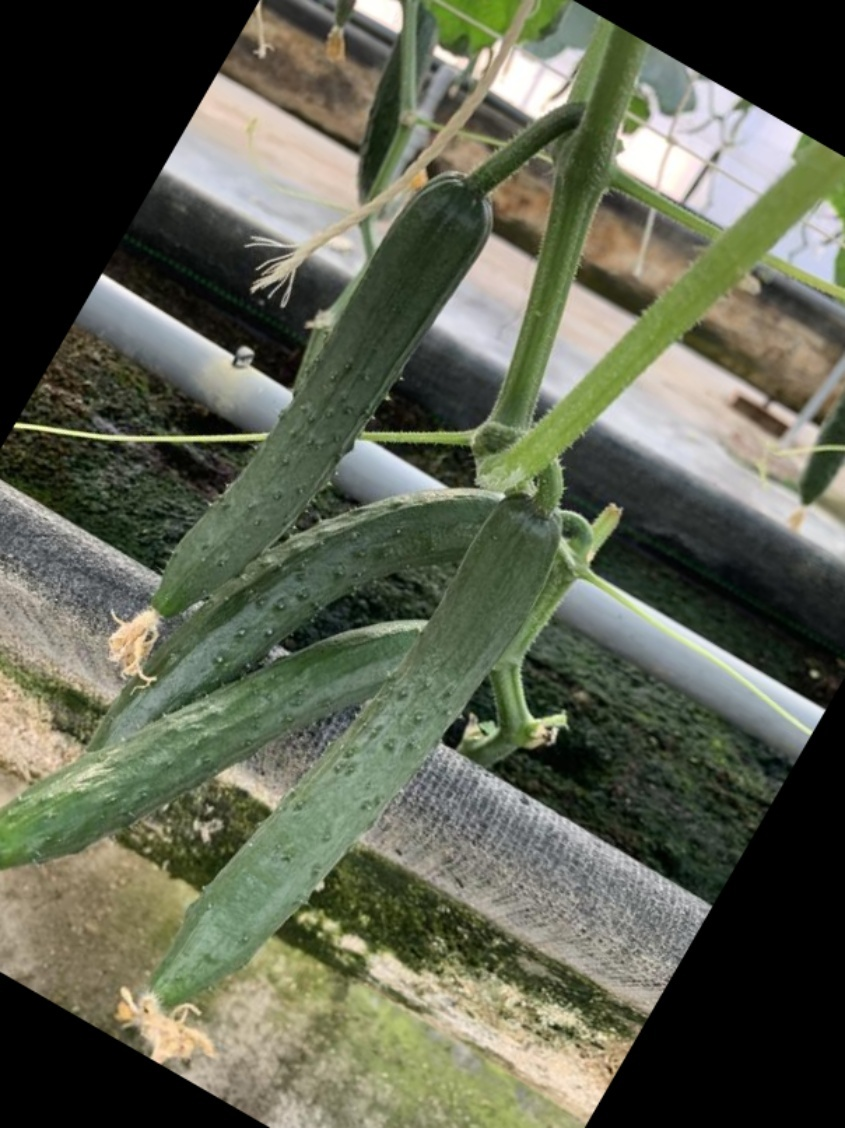mature: (202, 493, 551, 958)
